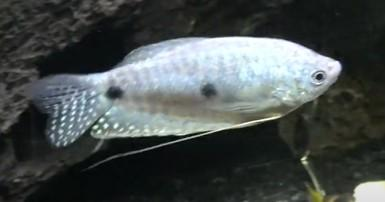Gourami: (11, 34, 347, 194)
